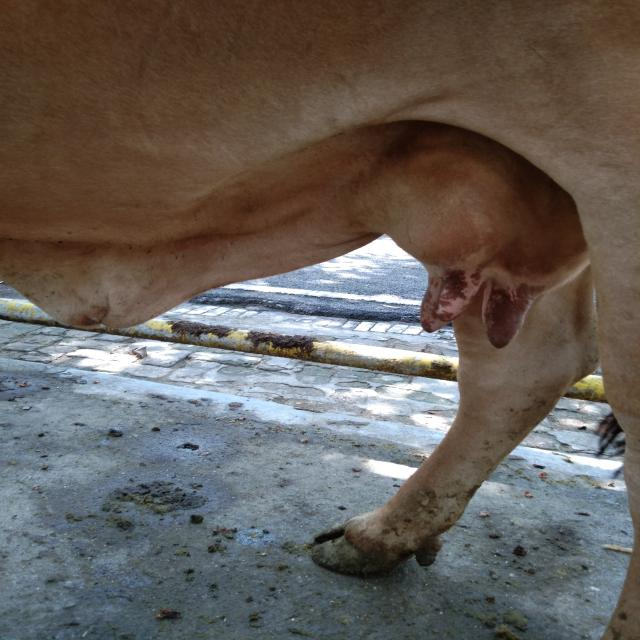Hoof: (309, 514, 442, 576)
